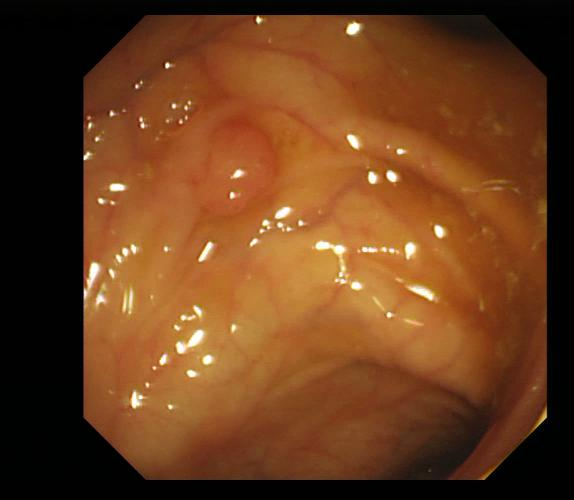polyp: (193, 119, 282, 214)
